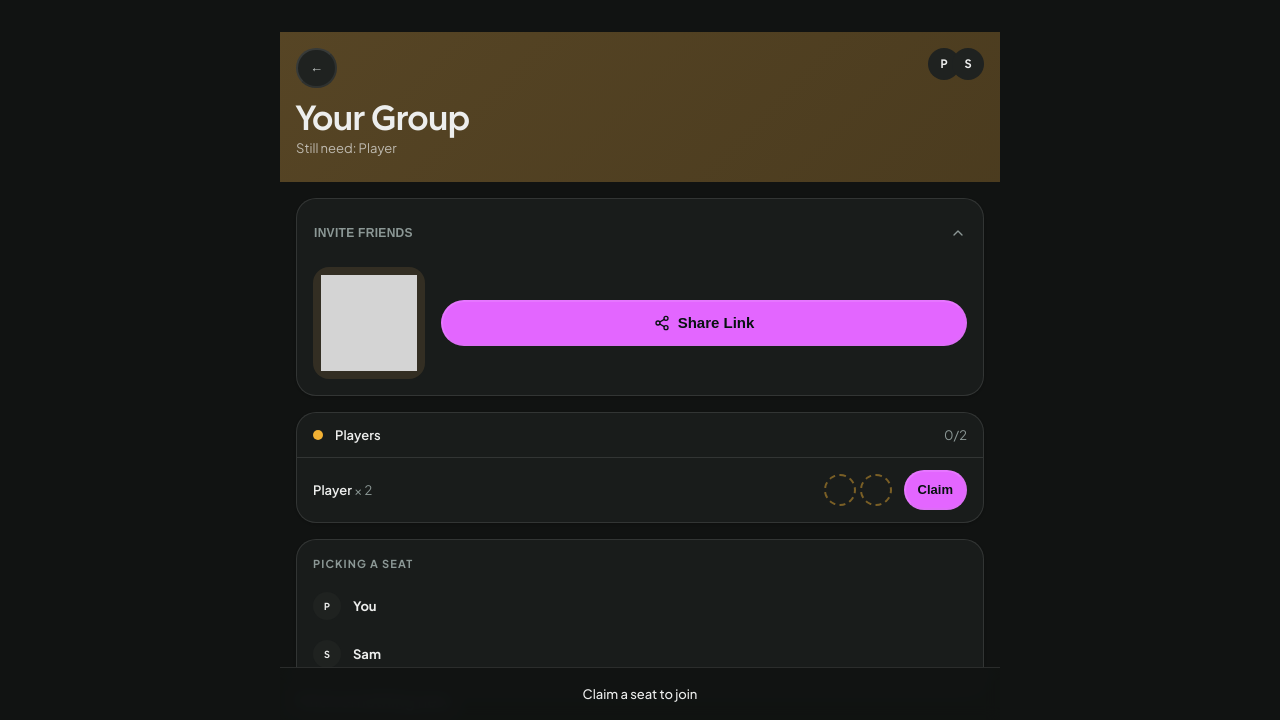
Test: GroupPage › a mode with pre-queue options › opens the picker instead of seating the player straight away
Click the button "Claim": (935, 490) [904,470,967,510]
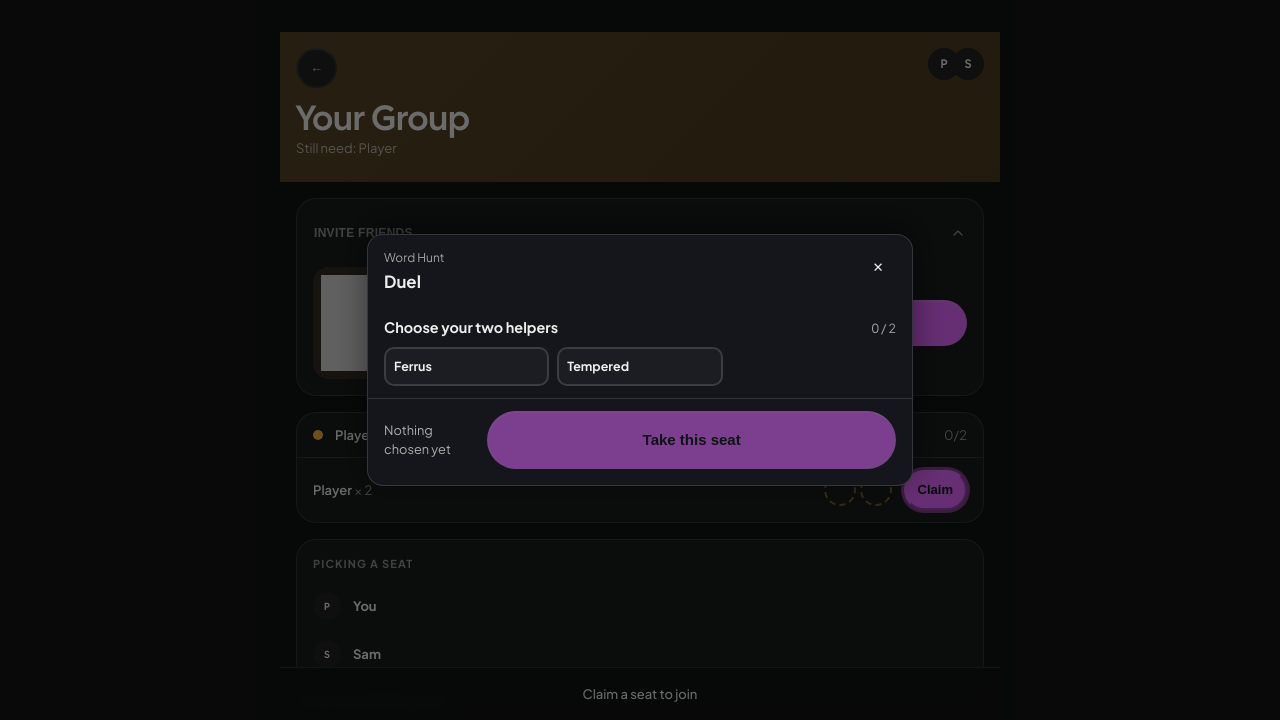
Expected: the dialog shows "Choose your two helpers", [384,318,558,336]
